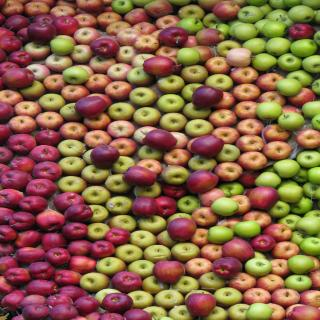Apple: (0, 0, 320, 320), (152, 260, 186, 284), (186, 292, 217, 316)
